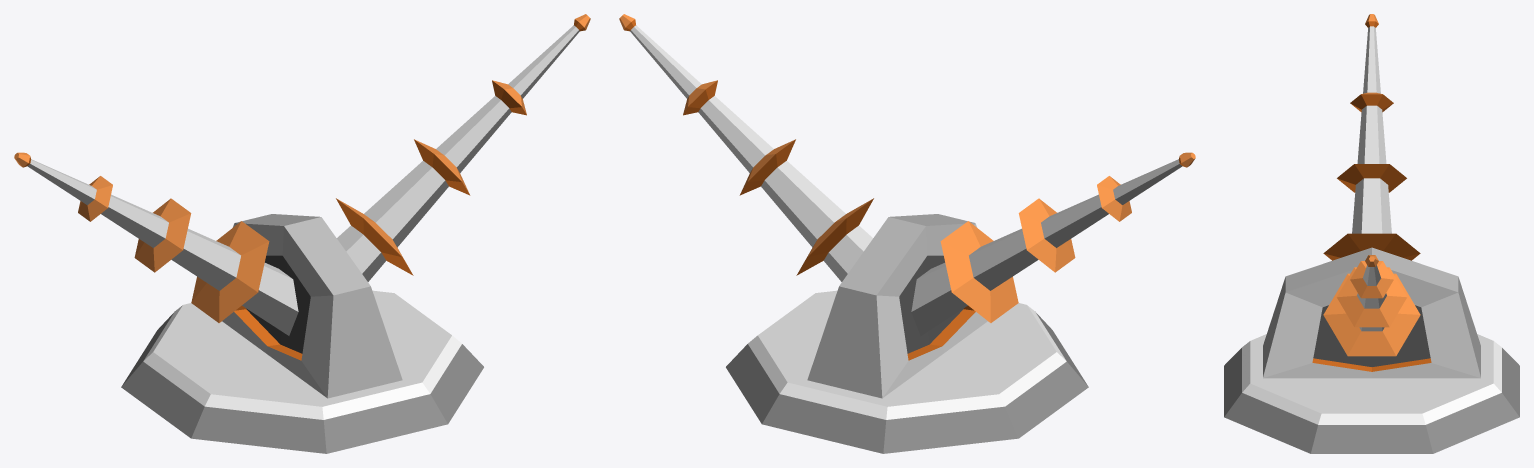
The model's file is Antenna_03.glb.
3 renders of one model, left to right at view 1: azimuth 30°, elevation 25°; view 2: azimuth 150°, elevation 25°; view 3: azimuth 270°, elevation 25°, orthographic. The views are drawn at different scales.
Visible parts, largest first — view 1: Antenna_03; view 2: Antenna_03; view 3: Antenna_03.
Part boxes in pixels (x1,y1,x2,y2): Antenna_03: [14, 14, 590, 453]; Antenna_03: [619, 14, 1195, 453]; Antenna_03: [1224, 14, 1519, 453].
Size of what is drawn, in the model's own units: 2.3 by 1.12 by 1.17.
1 material, 1 textured.
